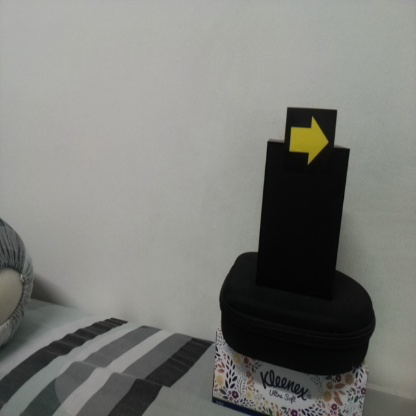id_3: (286, 108, 336, 177)
